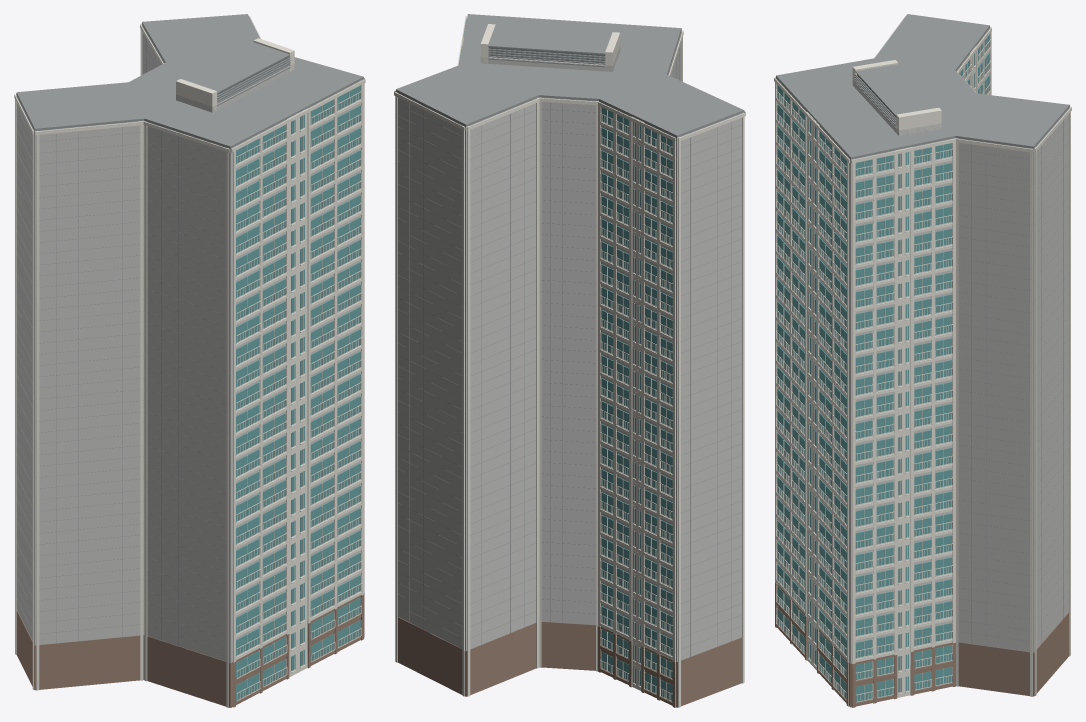
The model's file is bespoke-jamsil-els-101.glb.
The picture shows the model from 3 angles, left to right: view 1: azimuth 30°, elevation 25°; view 2: azimuth 150°, elevation 25°; view 3: azimuth 270°, elevation 25°; orthographic projection. The views are drawn at different scales.
Visible parts, largest first — view 1: Els101_editable_Els101_light_grey_solid_wall002, Els101_editable_Els101_turquoise_balcony_glazing002, Els101_editable_Els101_modest_grey_flat_roof_caps002, Els101_white_exact_chunk_1, Els101_white_exact_chunk_0, Els101_white_exact_chunk_2, Els101_editable_Els101_muted_ground_wall002, Els101_white_exact_chunk_3; view 2: Els101_editable_Els101_light_grey_solid_wall002, Els101_editable_Els101_modest_grey_flat_roof_caps002, Els101_white_exact_chunk_0, Els101_editable_Els101_turquoise_balcony_glazing002, Els101_editable_Els101_muted_ground_wall002, Els101_white_exact_chunk_3, Els101_editable_Els101_narrow_charcoal_service_strips002; view 3: Els101_editable_Els101_light_grey_solid_wall002, Els101_editable_Els101_turquoise_balcony_glazing002, Els101_white_exact_chunk_3, Els101_editable_Els101_modest_grey_flat_roof_caps002, Els101_white_exact_chunk_2, Els101_white_exact_chunk_1, Els101_editable_Els101_muted_ground_wall002, Els101_white_exact_chunk_0.
Part boxes in pixels (x1,y1,x2,y2): Els101_editable_Els101_light_grey_solid_wall002: (16,24,363,662); Els101_editable_Els101_turquoise_balcony_glazing002: (236,85,360,700); Els101_editable_Els101_modest_grey_flat_roof_caps002: (16,14,363,661); Els101_white_exact_chunk_1: (233,116,335,707); Els101_white_exact_chunk_0: (14,93,307,707); Els101_white_exact_chunk_2: (231,79,365,667); Els101_editable_Els101_muted_ground_wall002: (16,593,364,707); Els101_white_exact_chunk_3: (140,16,364,636); Els101_editable_Els101_light_grey_solid_wall002: (396,30,743,668); Els101_editable_Els101_modest_grey_flat_roof_caps002: (396,14,744,659); Els101_white_exact_chunk_0: (598,30,745,707); Els101_editable_Els101_turquoise_balcony_glazing002: (459,20,672,700); Els101_editable_Els101_muted_ground_wall002: (398,617,741,707); Els101_white_exact_chunk_3: (394,16,620,696); Els101_editable_Els101_narrow_charcoal_service_strips002: (488,47,605,63); Els101_editable_Els101_light_grey_solid_wall002: (776,28,1069,676); Els101_editable_Els101_turquoise_balcony_glazing002: (777,34,989,701); Els101_white_exact_chunk_3: (851,60,1071,698); Els101_editable_Els101_modest_grey_flat_roof_caps002: (776,14,1069,652); Els101_white_exact_chunk_2: (774,77,911,706); Els101_white_exact_chunk_1: (775,78,831,683); Els101_editable_Els101_muted_ground_wall002: (775,583,1068,707); Els101_white_exact_chunk_0: (775,16,991,670).
Size of the model in its own units: 37.42 by 68.35 by 32.45.
